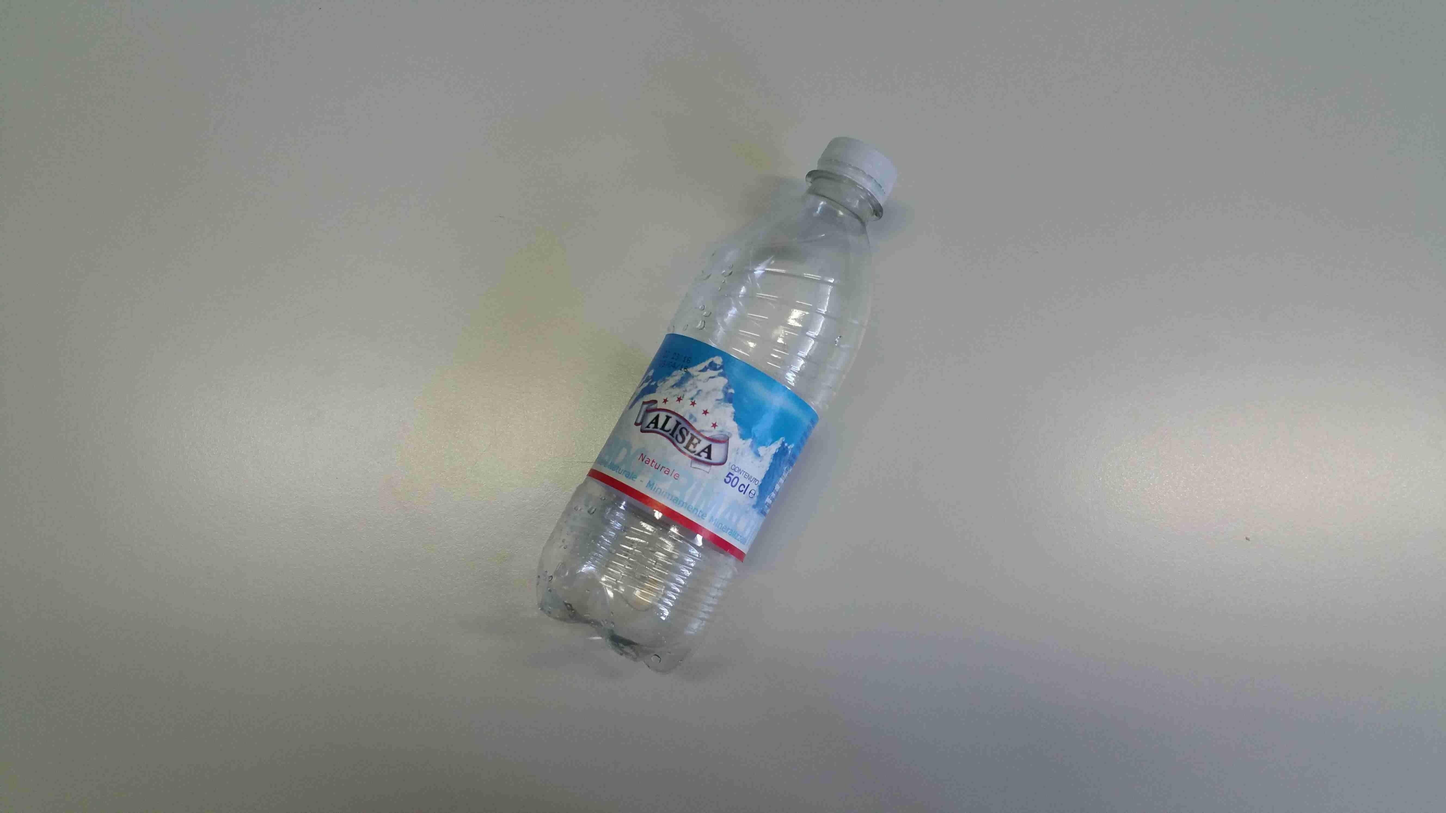bottle-plastic: (528, 129, 902, 677)
